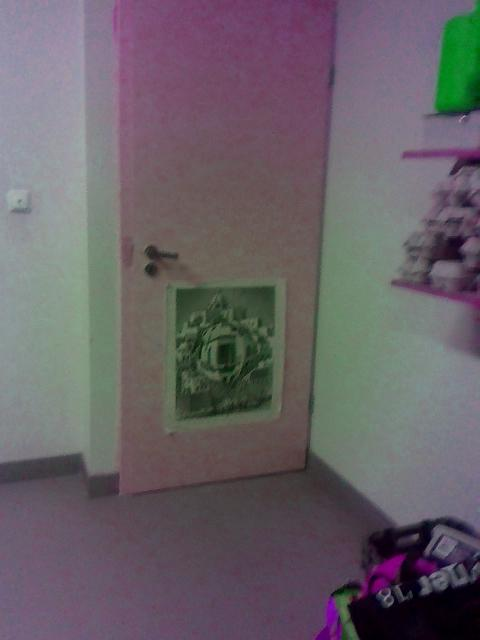closed_door: (116, 3, 335, 493)
